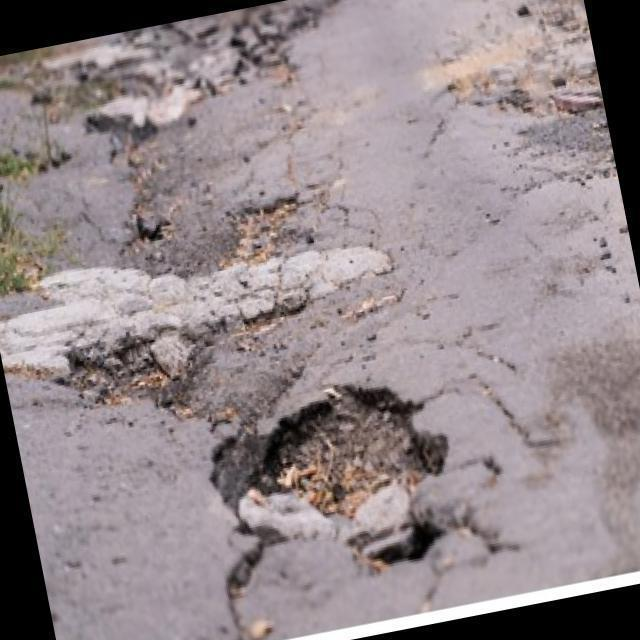pothole: (233, 358, 476, 590)
